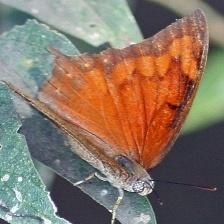butterfly: (3, 8, 210, 197)
